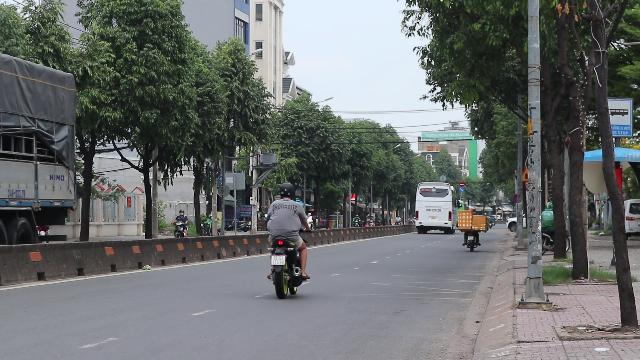helmet: (278, 182, 294, 198)
licenseplate: (271, 255, 285, 265)
motorcyclist: (262, 181, 312, 297)
